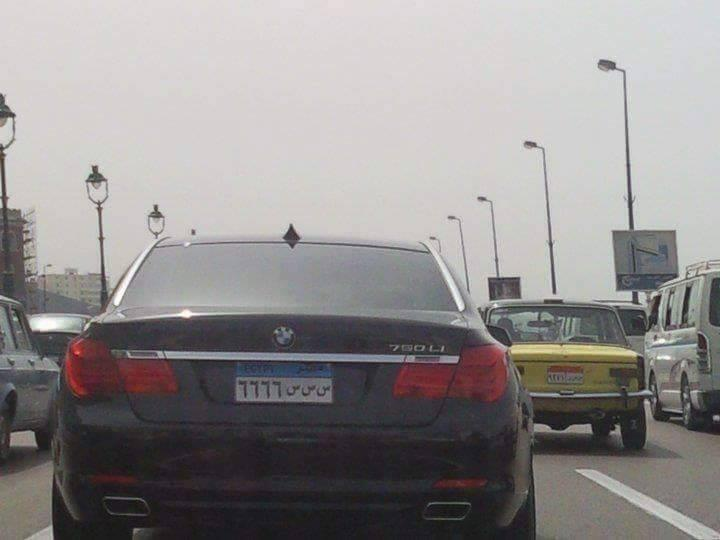6: (237, 379, 248, 400), (249, 379, 260, 399), (272, 380, 283, 398), (260, 380, 270, 398)
License Plate: (233, 361, 335, 405), (547, 366, 584, 385)
Seen: (317, 382, 331, 399), (301, 383, 315, 398), (286, 382, 300, 397)
car: (56, 234, 533, 540), (483, 295, 648, 442), (647, 280, 720, 420), (1, 297, 60, 463), (25, 311, 84, 356), (610, 297, 652, 357)
